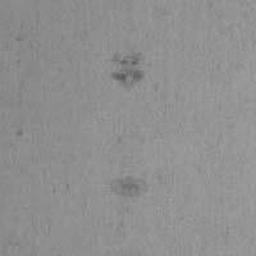Oil spot: (111, 54, 144, 87), (111, 176, 144, 197)
